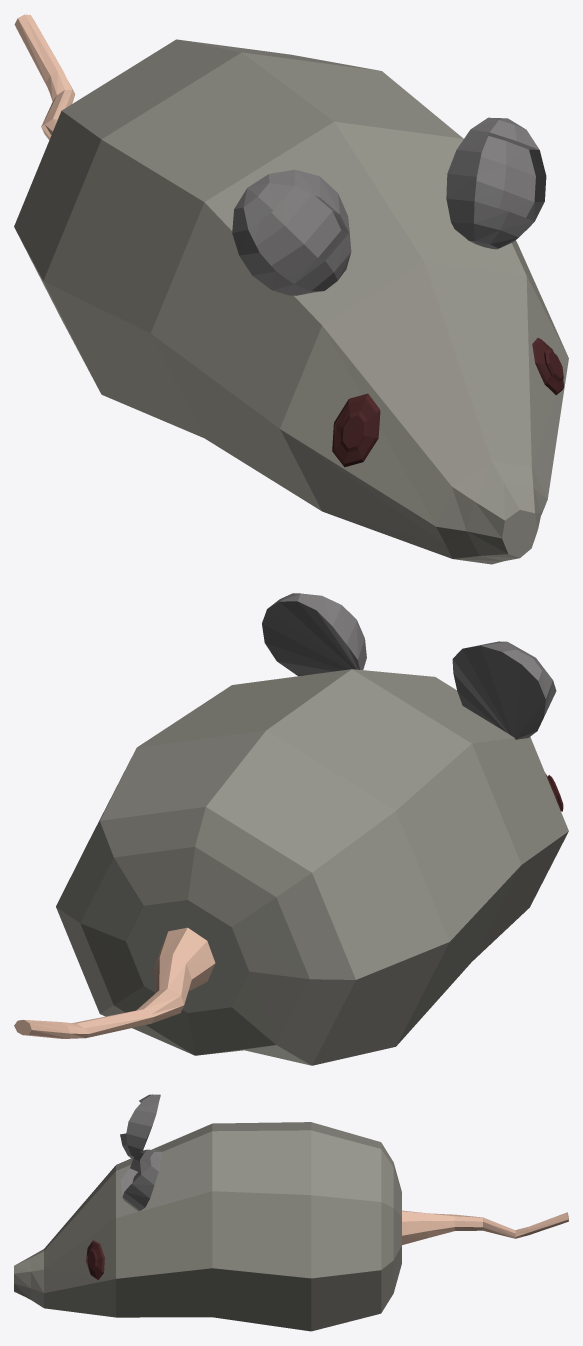
File: RatonUnity.fbx
3 views of the same model, one above another, from view 1: azimuth 30°, elevation 25°; view 2: azimuth 150°, elevation 25°; view 3: azimuth 270°, elevation 25° (orthographic). The views are drawn at different scales.
Parts seen in each view (by area): view 1: Ojo_izq2; view 2: Ojo_izq2; view 3: Ojo_izq2.
Boxes of the visible parts, left/top/right/bottom form: Ojo_izq2: left=14, top=14, right=568, bottom=564; Ojo_izq2: left=14, top=593, right=568, bottom=1065; Ojo_izq2: left=14, top=1094, right=568, bottom=1331.
Size of the model in its own units: 5.37 by 4.68 by 12.19.
